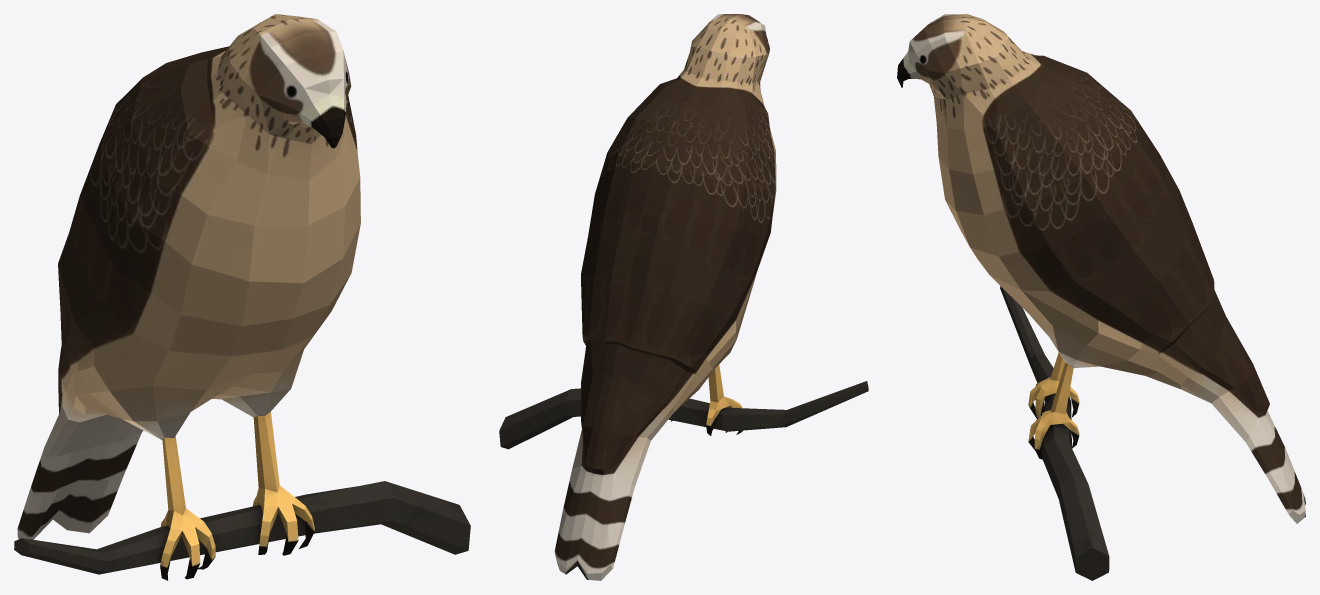
The model's file is cdRfEmOy4uu.glb.
The picture shows the model from 3 angles, left to right: view 1: azimuth 30°, elevation 25°; view 2: azimuth 150°, elevation 25°; view 3: azimuth 270°, elevation 25°; orthographic projection. The views are drawn at different scales.
Visible parts, largest first — view 1: MarshHawk_Mesh; view 2: MarshHawk_Mesh; view 3: MarshHawk_Mesh.
Boxes of the visible parts, x1,y1,x2,y2 form: MarshHawk_Mesh: (14, 14, 470, 580); MarshHawk_Mesh: (499, 14, 868, 580); MarshHawk_Mesh: (897, 14, 1305, 580).
Bounding box in the file's own units: 0.7621 × 1 × 0.7492.
1 material, 1 textured.
